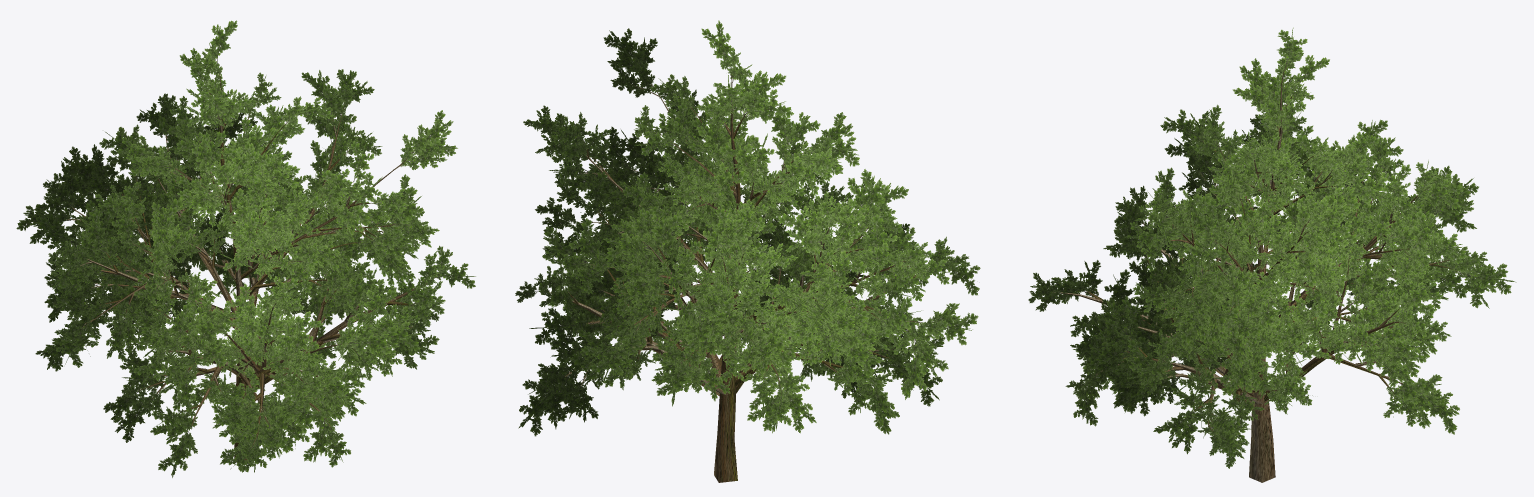
Rendered from oak_large.glb.
The picture shows the model from 3 angles, left to right: view 1: azimuth 30°, elevation 25°; view 2: azimuth 150°, elevation 25°; view 3: azimuth 270°, elevation 25°; orthographic projection. The views are drawn at different scales.
Parts seen in each view (by area): view 1: leaves, trunk; view 2: leaves, trunk; view 3: leaves, trunk.
Part boxes in pixels (box(x1,y1,x2,y2)): leaves: box(16, 20, 475, 477); trunk: box(66, 74, 437, 463); leaves: box(515, 20, 980, 436); trunk: box(549, 74, 927, 482); leaves: box(1028, 27, 1516, 468); trunk: box(1054, 63, 1463, 482).
Size of the model in its own units: 12.64 by 13 by 13.01.
2 materials, 2 textured.
